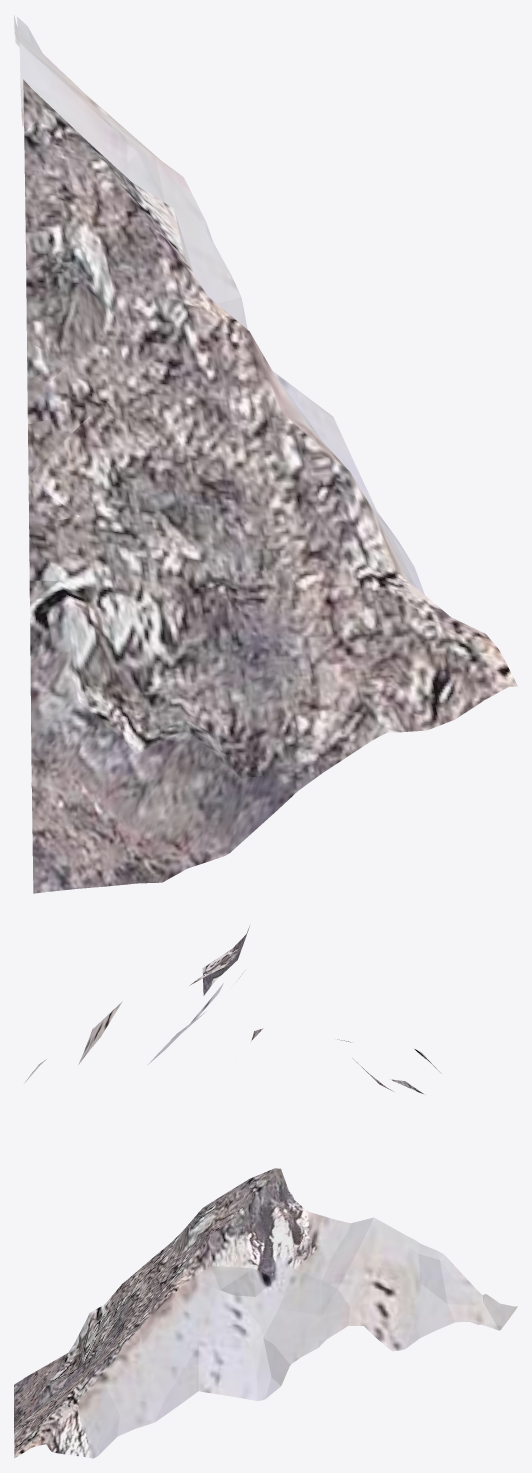
File: Tile_+005_+007_L19_00060.glb
3 views of the same model, one above another, from view 1: azimuth 30°, elevation 25°; view 2: azimuth 150°, elevation 25°; view 3: azimuth 270°, elevation 25° (orthographic). The views are drawn at different scales.
Parts seen in each view (by area): view 1: rtc; view 2: rtc; view 3: rtc.
Part boxes in pixels (left/top/right/bottom): rtc: left=14, top=15, right=517, bottom=893; rtc: left=24, top=926, right=441, bottom=1095; rtc: left=14, top=1168, right=517, bottom=1458.
Size of the model in its own units: 12.3 by 13.99 by 22.12.
Materials: 1 (1 with a texture image).
